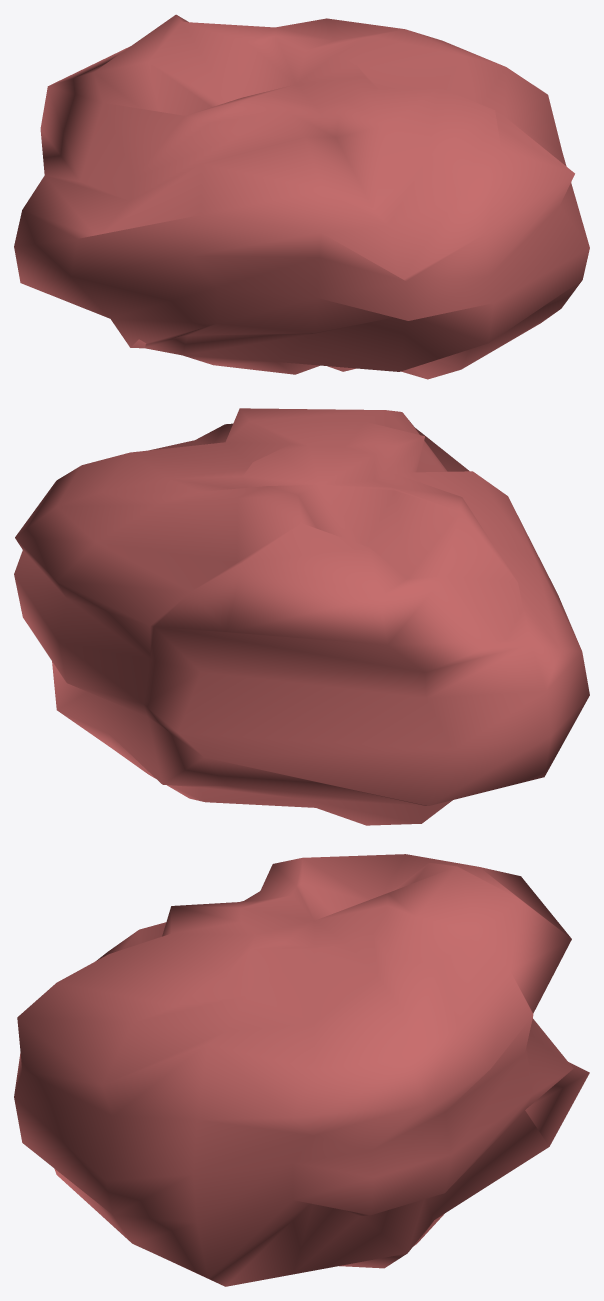
The model's file is Meat.fbx.
3 views of the same model, one above another, from view 1: azimuth 30°, elevation 25°; view 2: azimuth 150°, elevation 25°; view 3: azimuth 270°, elevation 25° (orthographic). The views are drawn at different scales.
Visible parts, largest first — view 1: pSphere1; view 2: pSphere1; view 3: pSphere1.
Part boxes in pixels (x1=…): pSphere1: x1=14, y1=14, x2=589, y2=379; pSphere1: x1=14, y1=408, x2=589, y2=825; pSphere1: x1=14, y1=854, x2=589, y2=1286.
Bounding box in the file's own units: 6.59 × 3.87 × 6.23.
